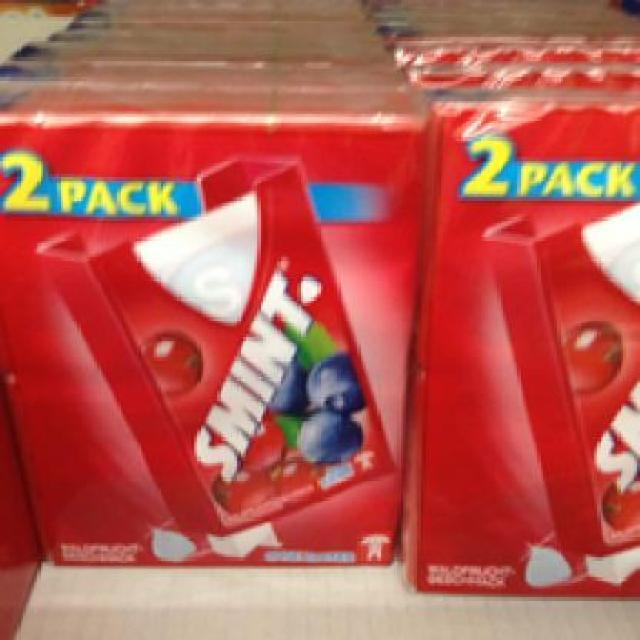Candy: (0, 94, 403, 563), (400, 72, 631, 598)
